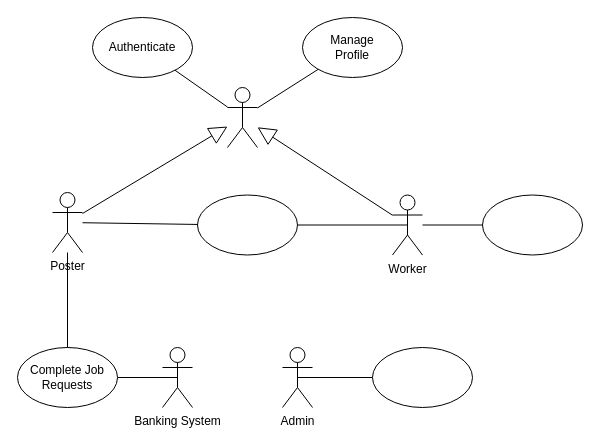
Image size: 600x446. Some labels were removed from this diagram. Each missing label, with the box of its shape:
Manage Job Requests: (196, 194, 298, 255)
Search for Job Requests: (482, 194, 582, 255)
User: (226, 86, 258, 148)
View Statistics: (372, 346, 472, 408)
